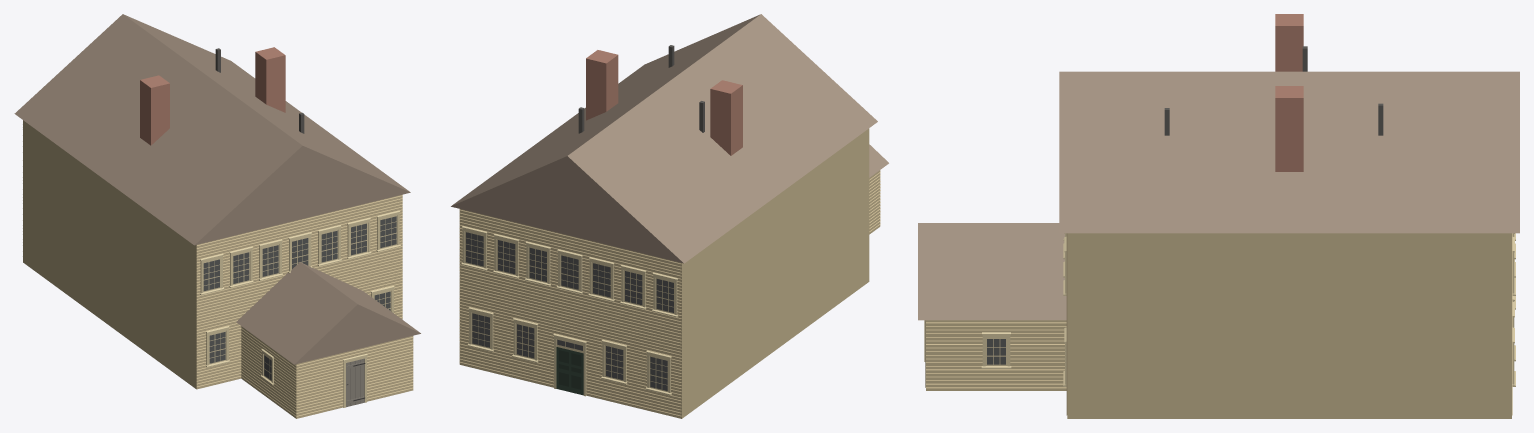
Rendered from recon_1835_core_h3_042__inferred_1835.glb.
3 views of the same model, side by side, from view 1: azimuth 30°, elevation 25°; view 2: azimuth 150°, elevation 25°; view 3: azimuth 270°, elevation 25° (orthographic). The views are drawn at different scales.
Visible parts, largest first — view 1: recon_1835_core_h3_042__inferred_1835; view 2: recon_1835_core_h3_042__inferred_1835; view 3: recon_1835_core_h3_042__inferred_1835.
Boxes of the visible parts, x1,y1,x2,y2 form: recon_1835_core_h3_042__inferred_1835: (14,14,420,418); recon_1835_core_h3_042__inferred_1835: (451,14,888,418); recon_1835_core_h3_042__inferred_1835: (918,14,1519,418).
Bounding box in the file's own units: 10.21 × 10.5 × 19.17.
